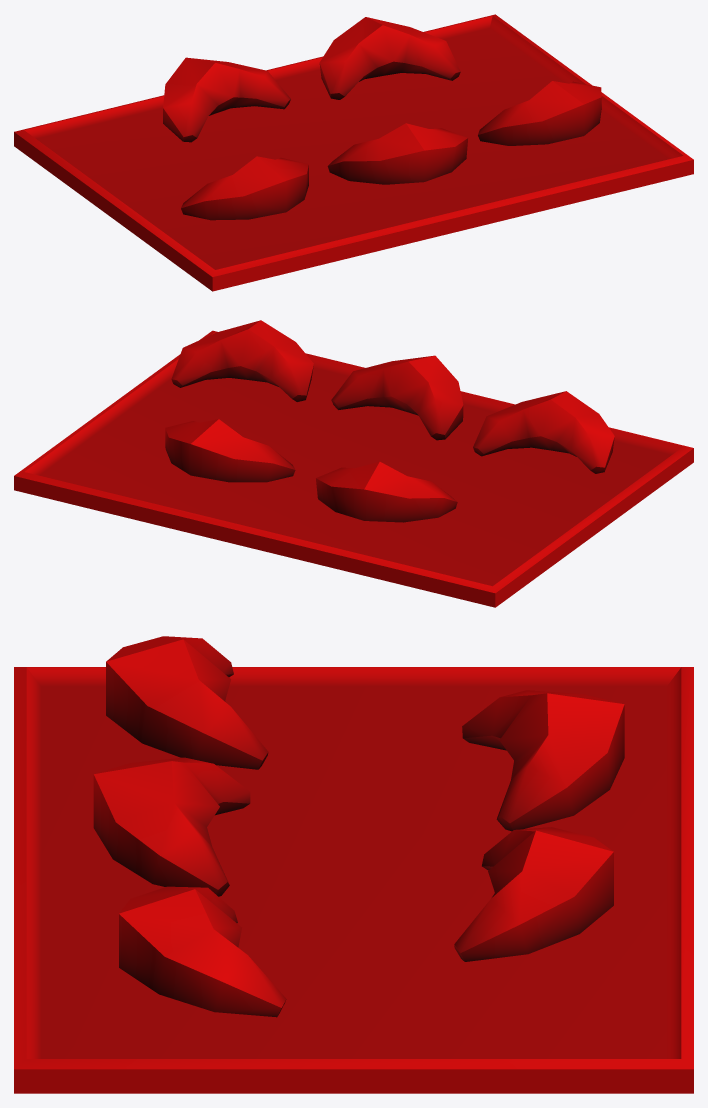
The model's file is CI_Bakery_Croissant_Tray.glb.
3 renders of one model, top to bottom at view 1: azimuth 30°, elevation 25°; view 2: azimuth 150°, elevation 25°; view 3: azimuth 270°, elevation 25°, orthographic. The views are drawn at different scales.
Visible parts, largest first — view 1: CI_Bakery_Croissant_Tray; view 2: CI_Bakery_Croissant_Tray; view 3: CI_Bakery_Croissant_Tray.
Boxes of the visible parts, x1,y1,x2,y2 form: CI_Bakery_Croissant_Tray: (14, 14, 693, 291); CI_Bakery_Croissant_Tray: (14, 320, 693, 607); CI_Bakery_Croissant_Tray: (14, 636, 693, 1093).
Bounding box in the file's own units: 0.42 × 0.0635 × 0.3.
